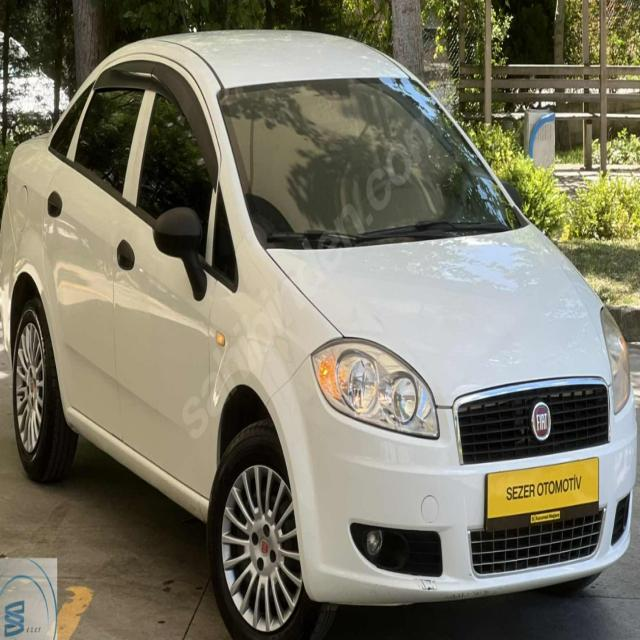fiat: (526, 399, 558, 444)
